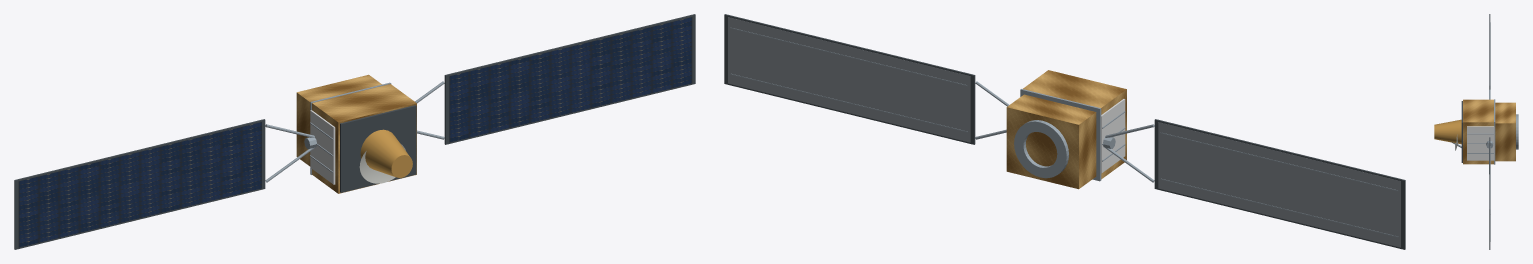
Rendered from ref-satcom-11635.glb.
The picture shows the model from 3 angles, left to right: view 1: azimuth 30°, elevation 25°; view 2: azimuth 150°, elevation 25°; view 3: azimuth 270°, elevation 25°; orthographic projection. The views are drawn at different scales.
Parts seen in each view (by area): view 1: Solar cell panel (×2), Solar panel frame (×2), Earth-facing deck, Payload module, Service module, Axial antenna horn, Radiator face, Deck-mounted reflector; view 2: Rear array substrate (×2), Service module, Solar panel frame (×2), Payload module, Launch adapter ring, Rear stiffener (×4), Radiator face, Module interface; view 3: Service module, Payload module, Radiator face, Axial antenna horn, Solar panel frame (×2), Rear stiffener (×2), Module interface, Earth-facing deck, Launch adapter ring.
Boxes of the visible parts, <box> form: Solar cell panel (×2): <box>18,17,692,247</box>; Solar panel frame (×2): <box>14,14,695,249</box>; Earth-facing deck: <box>340,105,416,192</box>; Payload module: <box>312,84,416,193</box>; Service module: <box>296,74,381,166</box>; Axial antenna horn: <box>360,129,412,177</box>; Radiator face: <box>310,110,335,184</box>; Deck-mounted reflector: <box>359,143,405,183</box>; Rear array substrate (×2): <box>728,17,1400,247</box>; Service module: <box>1006,94,1096,189</box>; Solar panel frame (×2): <box>724,14,1405,249</box>; Payload module: <box>1023,70,1126,179</box>; Launch adapter ring: <box>1014,120,1068,178</box>; Rear stiffener (×4): <box>730,27,1398,237</box>; Radiator face: <box>1100,99,1125,173</box>; Module interface: <box>1020,89,1101,181</box>; Service module: <box>1495,102,1515,161</box>; Payload module: <box>1463,99,1493,164</box>; Radiator face: <box>1467,126,1494,160</box>; Axial antenna horn: <box>1434,119,1461,144</box>; Solar panel frame (×2): <box>1489,14,1490,249</box>; Rear stiffener (×2): <box>1490,22,1490,214</box>; Module interface: <box>1494,99,1495,164</box>; Earth-facing deck: <box>1461,101,1462,162</box>; Launch adapter ring: <box>1516,114,1518,149</box>.
Bounding box in the file's own units: 11.26 × 1.14 × 2.06.
Materials: 8 (2 with a texture image).
